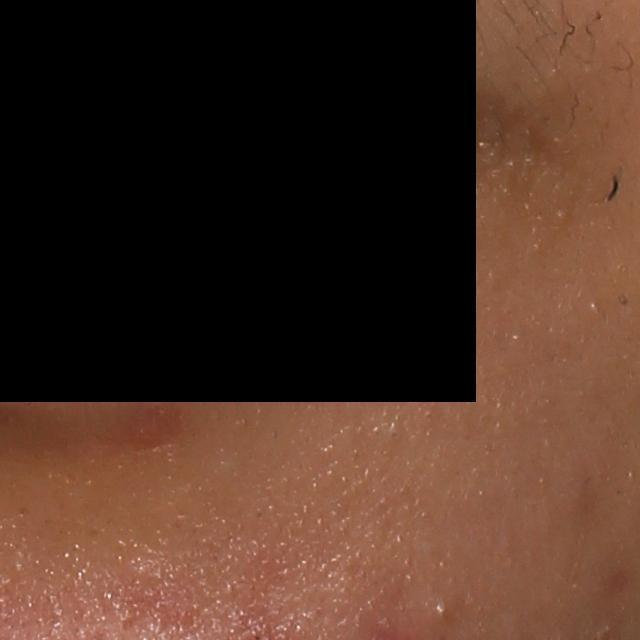comedo: (430, 596, 457, 622)
